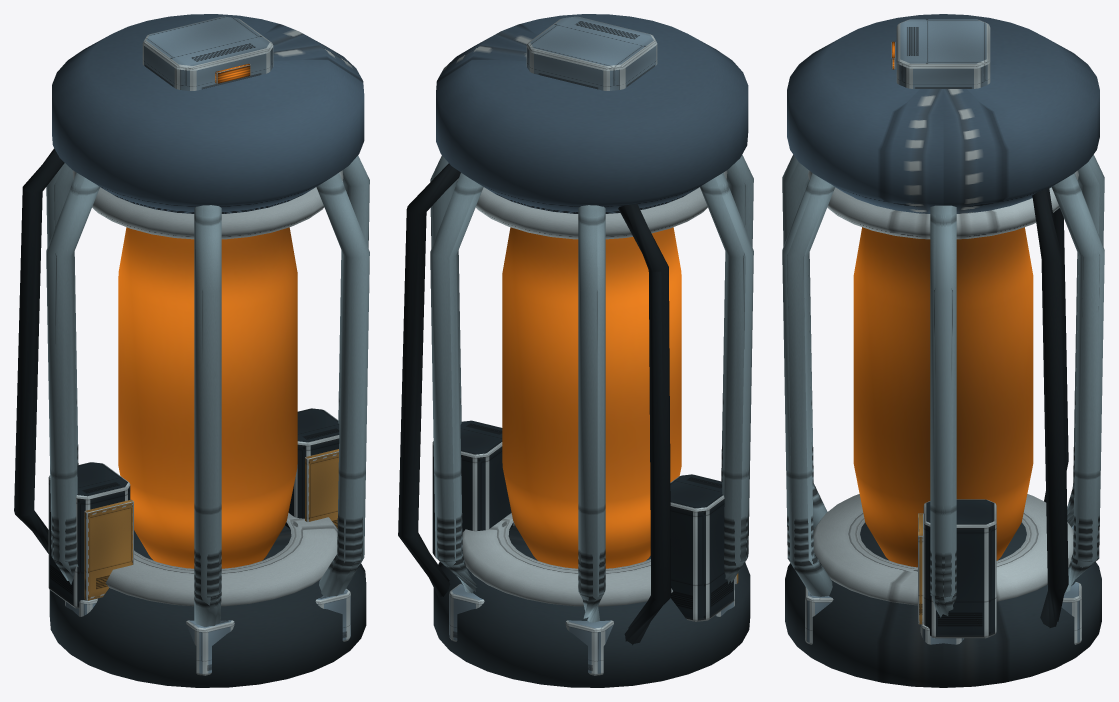
The model's file is V46_EnergyCylinder.fbx.
3 views of the same model, side by side, from view 1: azimuth 30°, elevation 25°; view 2: azimuth 150°, elevation 25°; view 3: azimuth 270°, elevation 25° (orthographic).
Visible parts, largest first — view 1: V46_EnergyCylinder; view 2: V46_EnergyCylinder; view 3: V46_EnergyCylinder.
Boxes of the visible parts, x1,y1,x2,y2 form: V46_EnergyCylinder: (14,14,369,687); V46_EnergyCylinder: (398,14,753,687); V46_EnergyCylinder: (782,14,1104,687).
Bounding box in the file's own units: 1.77 × 3.17 × 1.55.
